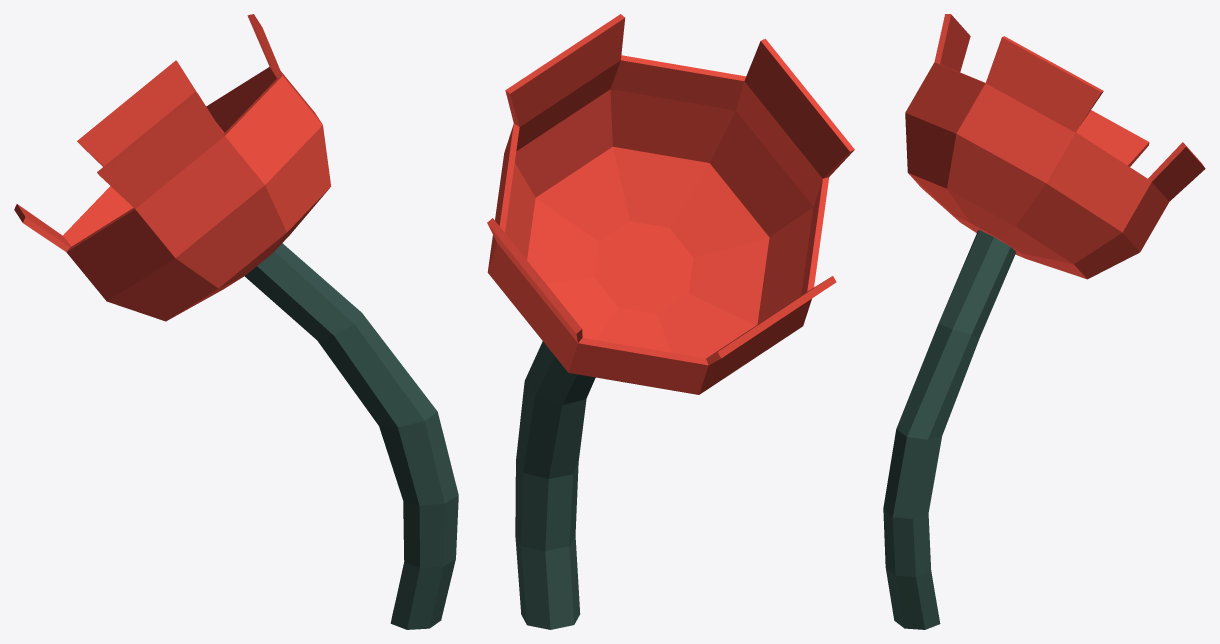
Rendered from Pot_2c_plantsingle.fbx.
The picture shows the model from 3 angles, left to right: view 1: azimuth 30°, elevation 25°; view 2: azimuth 150°, elevation 25°; view 3: azimuth 270°, elevation 25°; orthographic projection. The views are drawn at different scales.
Visible parts, largest first — view 1: Circle.001; view 2: Circle.001; view 3: Circle.001.
Boxes of the visible parts, x1,y1,x2,y2 form: Circle.001: (14, 14, 458, 629); Circle.001: (487, 14, 854, 629); Circle.001: (883, 14, 1205, 629).
Size of the model in its own units: 49.24 by 77.84 by 42.48.
